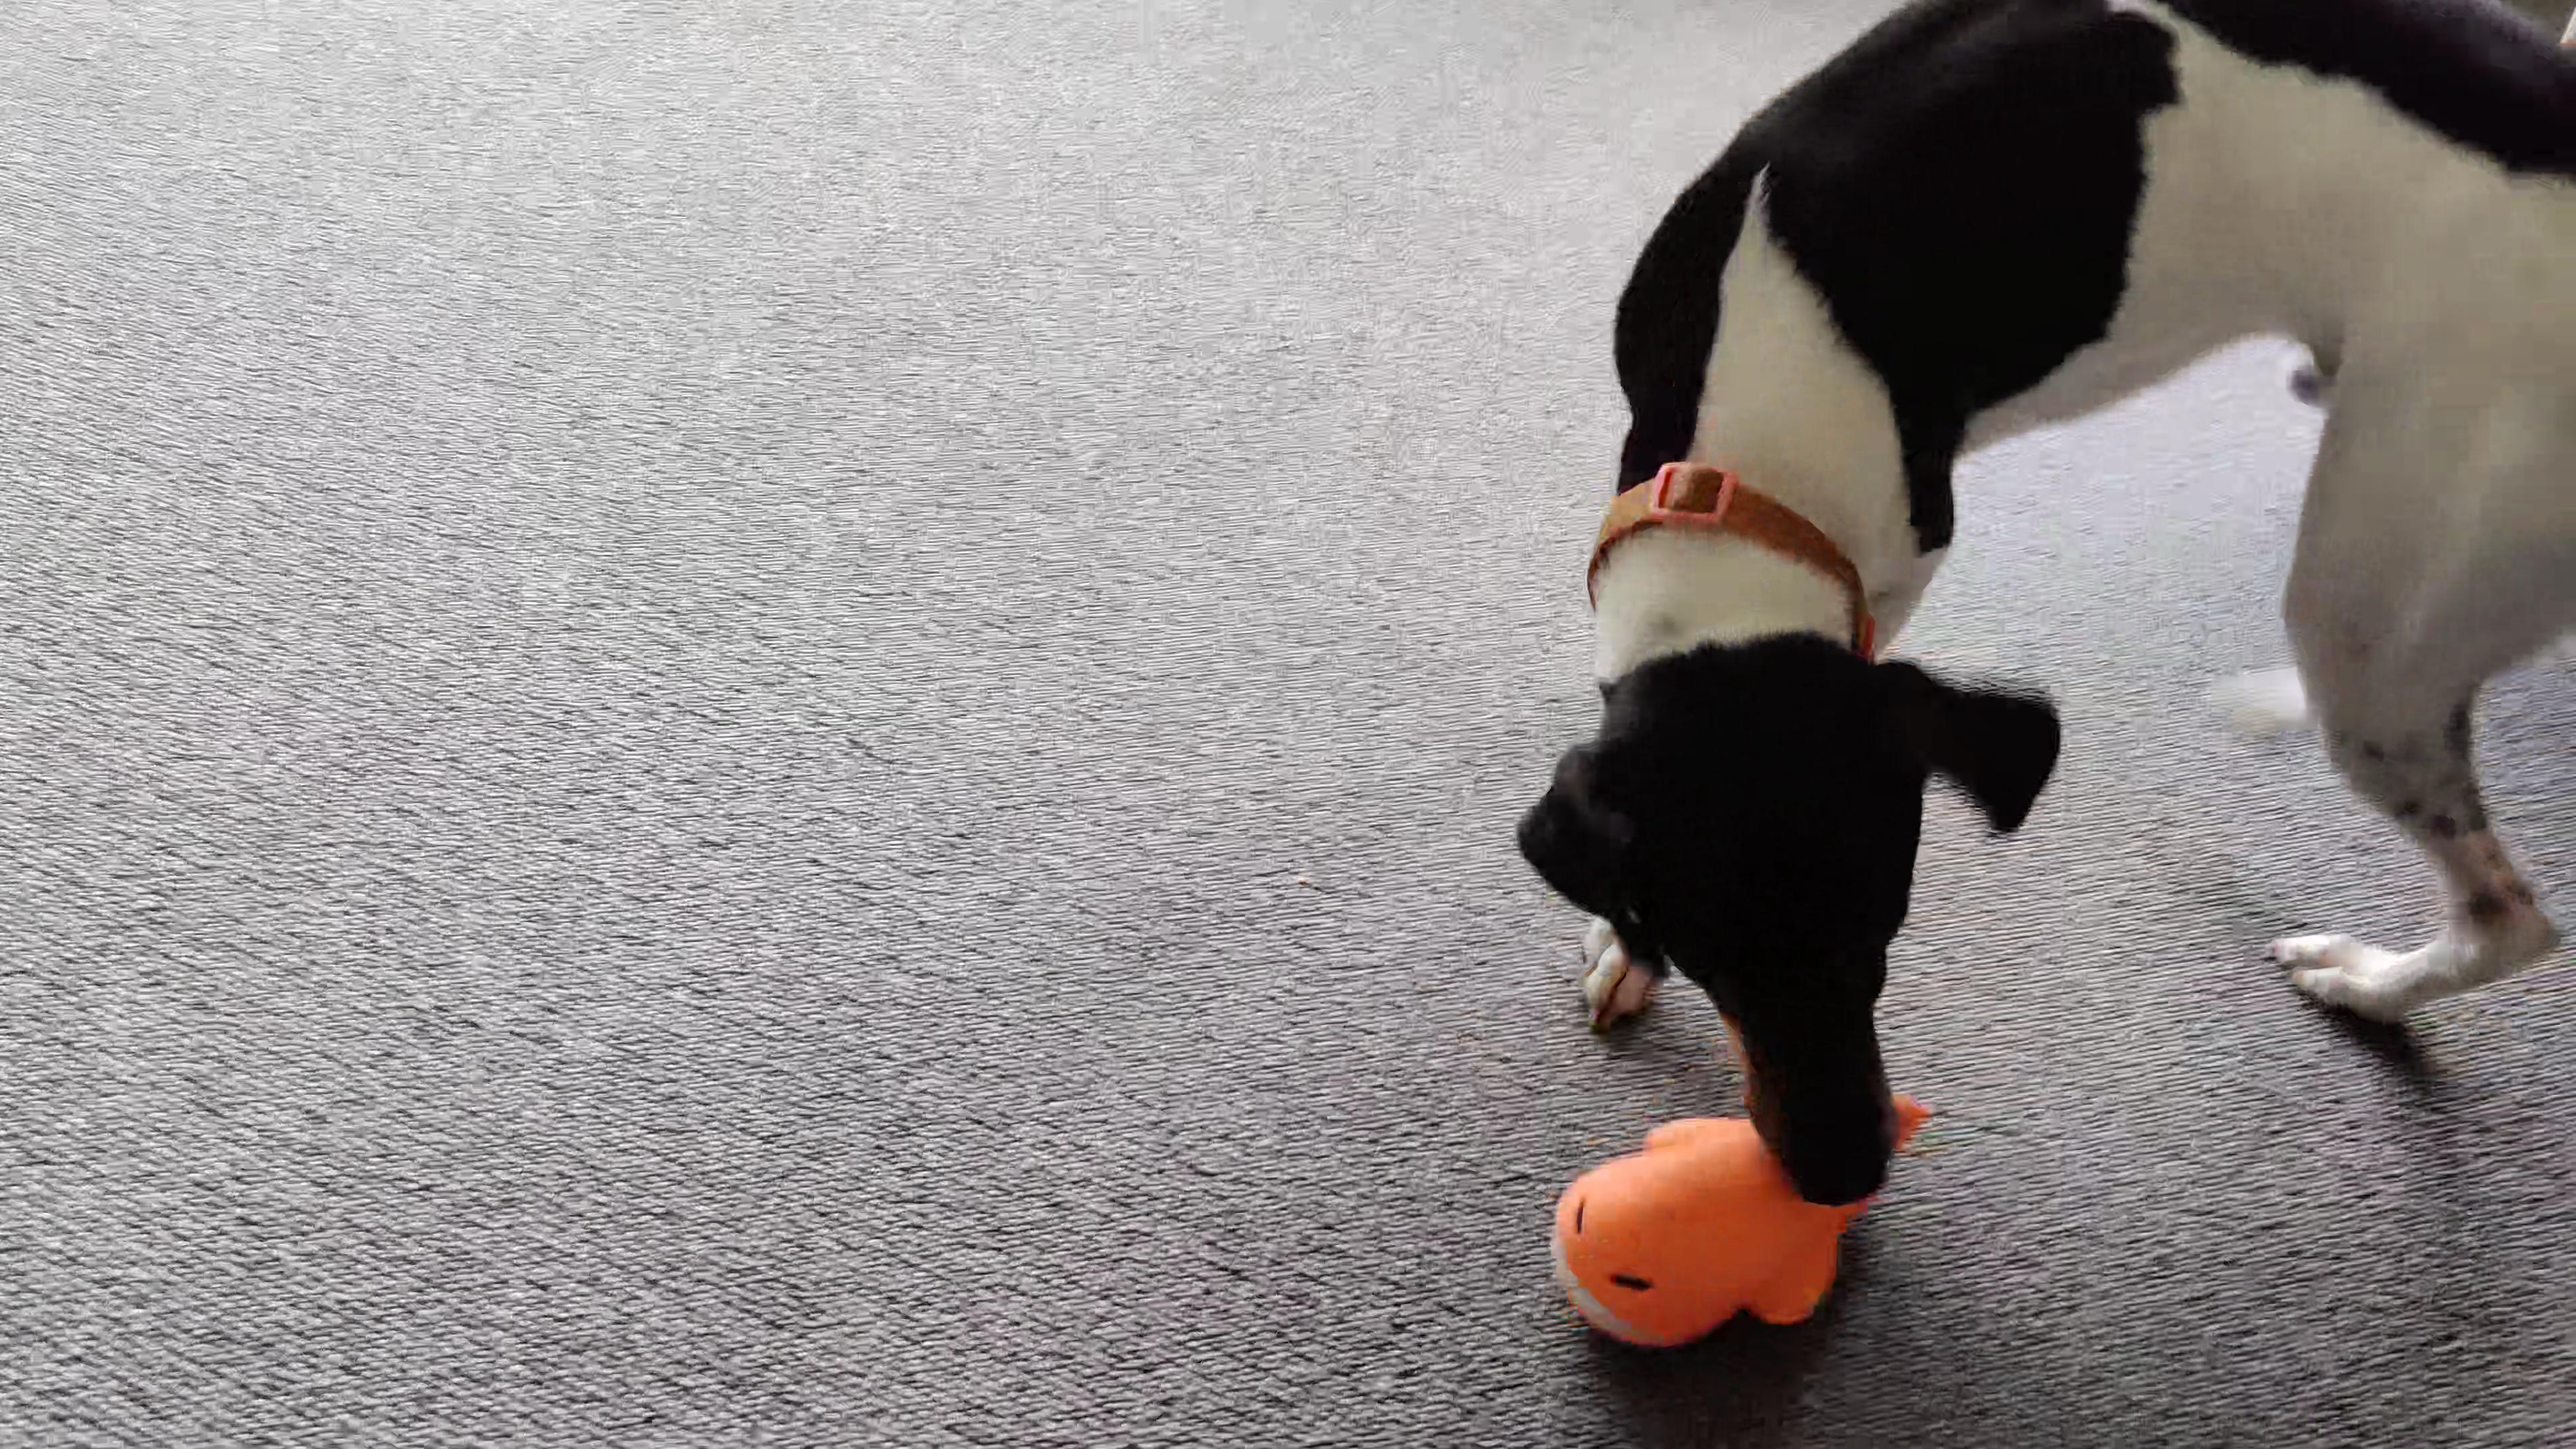Dog: (1502, 0, 2576, 1221)
